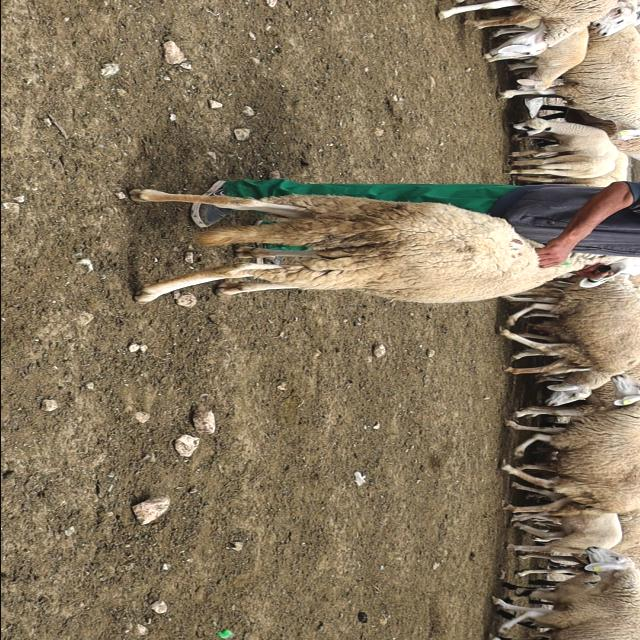Score_1: (128, 188, 630, 304)
